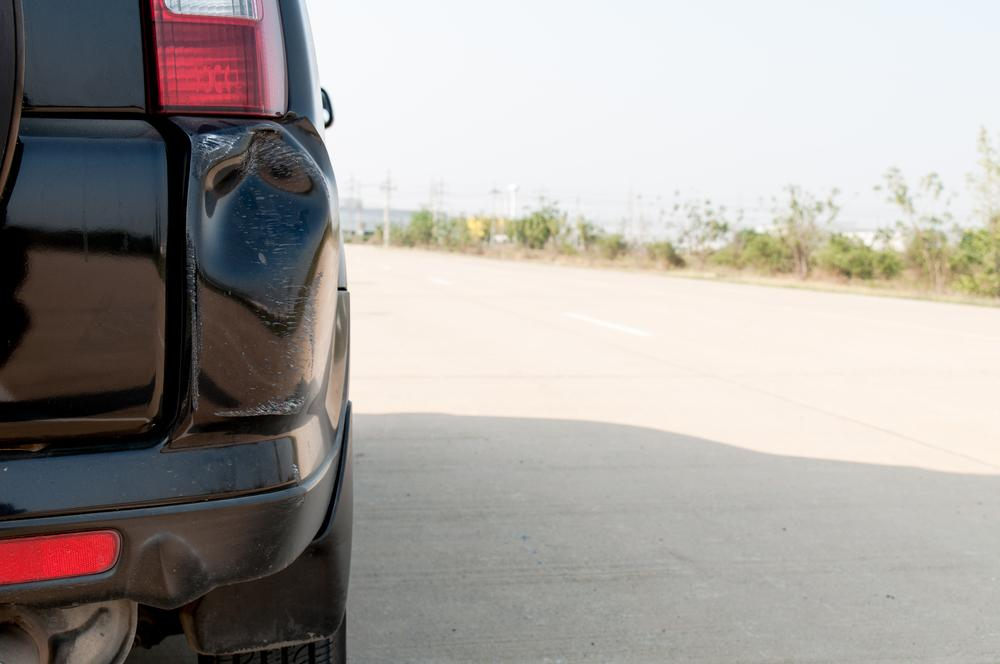dent: (195, 127, 329, 327), (127, 535, 204, 603)
scratch: (208, 262, 324, 419), (195, 133, 240, 166)
